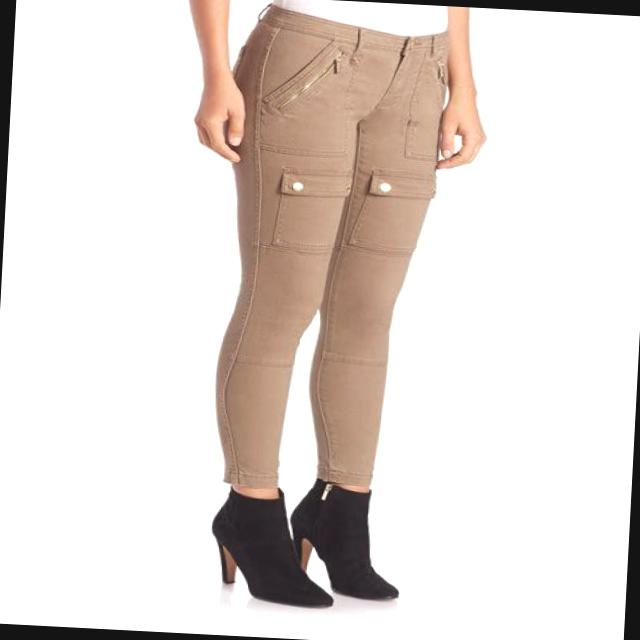pants: (212, 2, 453, 502)
